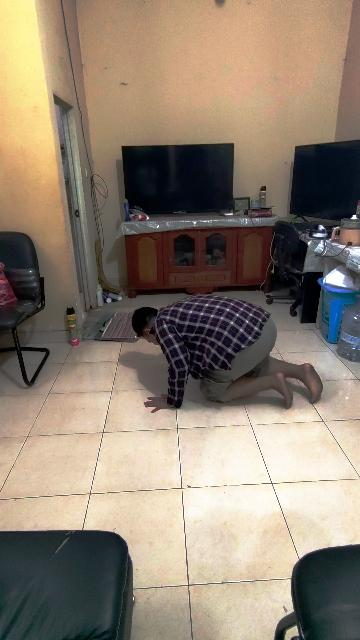jatuh: (126, 290, 326, 420)
